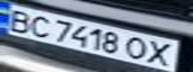1: (84, 25, 106, 52)
4: (66, 22, 90, 47)
7: (48, 17, 75, 44)
8: (103, 29, 124, 55)
B: (0, 6, 36, 34)
C: (24, 12, 57, 38)
O: (124, 34, 151, 61)
X: (142, 38, 181, 68)
